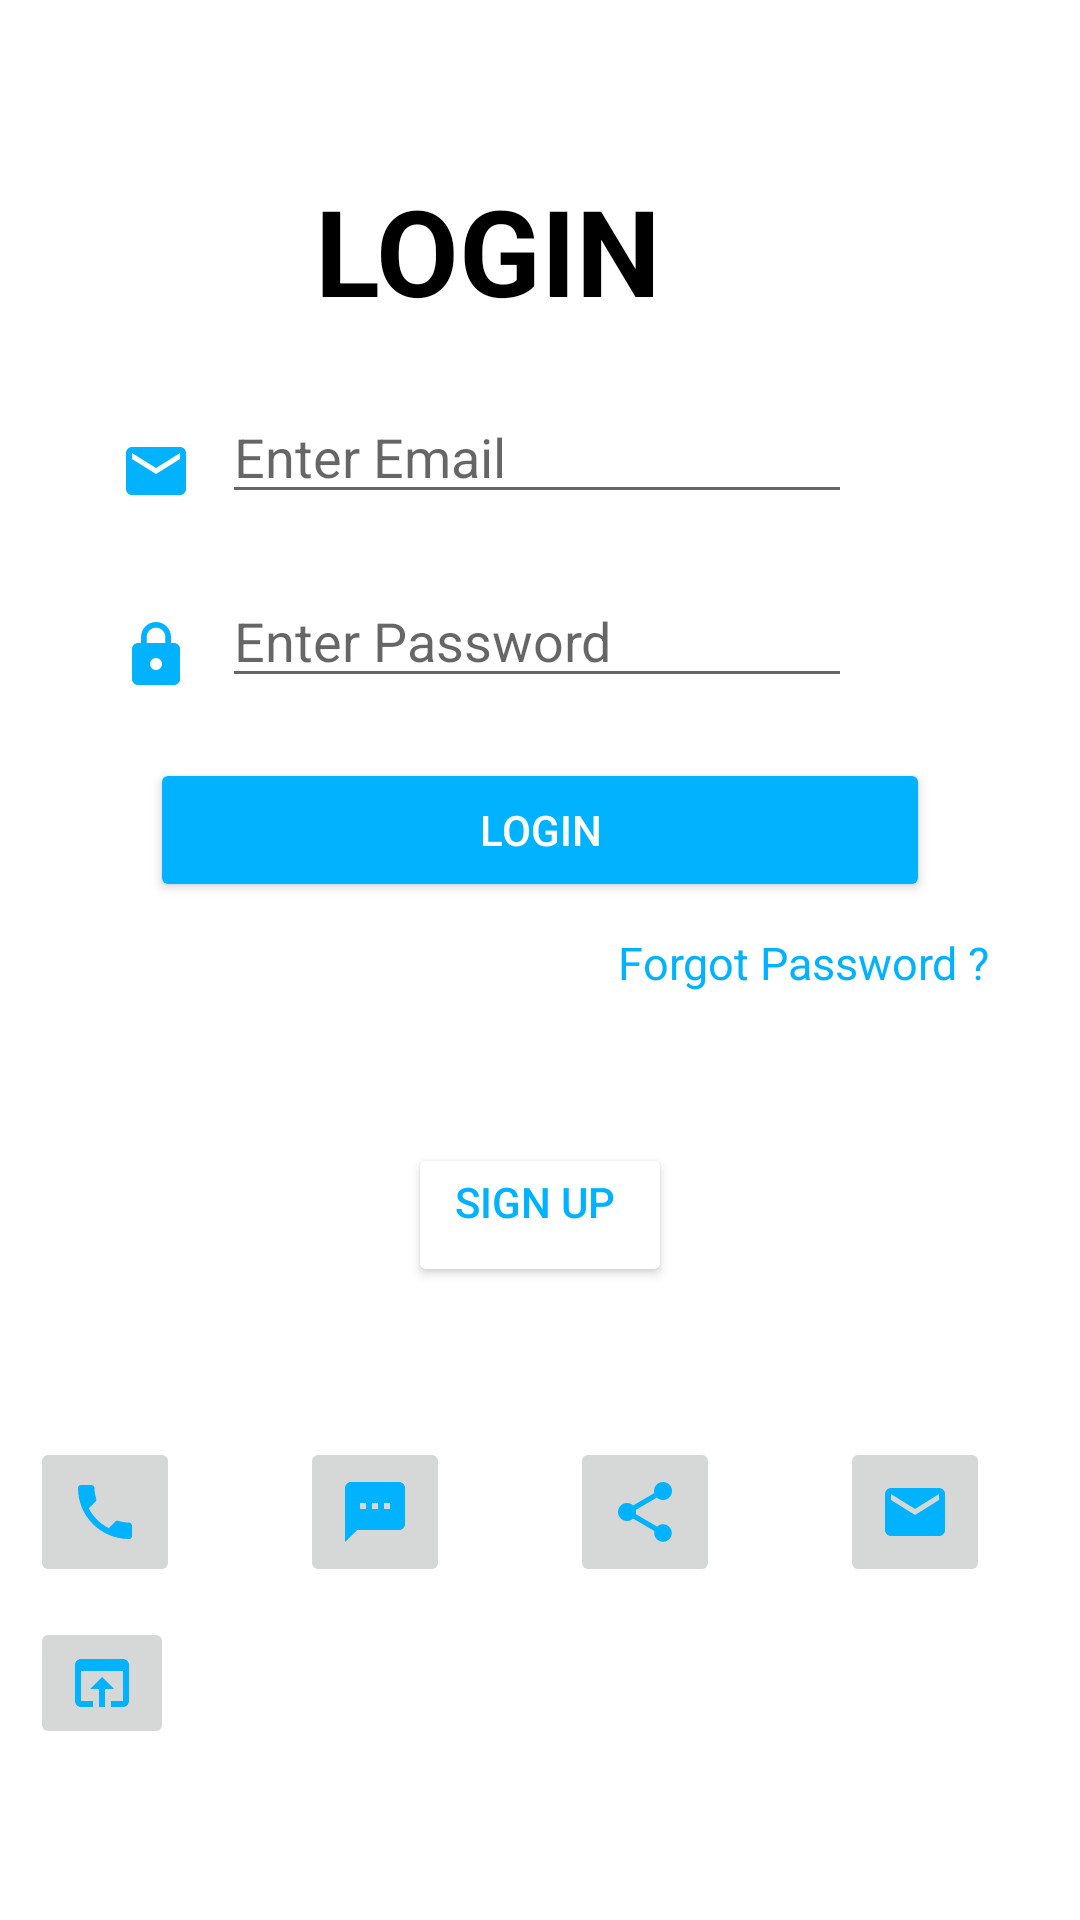

Where icons sit on this 1080w x 1920h app screen, as (x1, y1, x2, y2):
local phone: (42, 1455, 168, 1569)
lock: (132, 622, 180, 685)
open in browser: (42, 1635, 162, 1731)
share: (582, 1455, 708, 1569)
